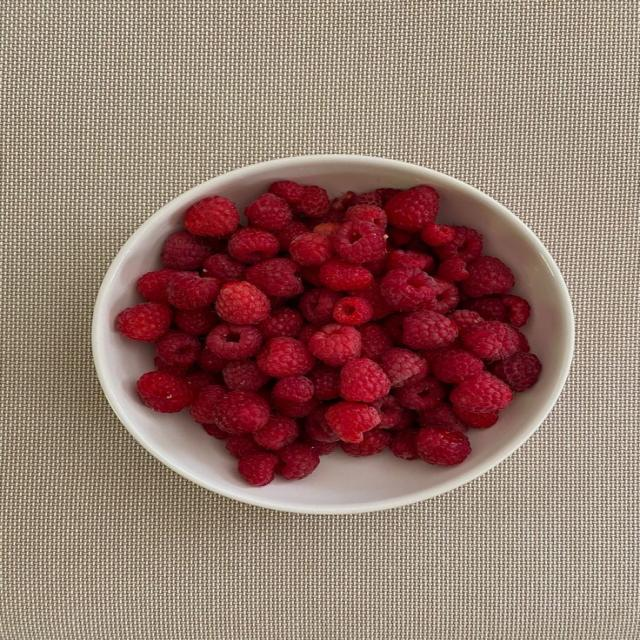raspberry: (207, 391, 269, 433), (450, 372, 513, 412), (380, 269, 439, 311), (385, 186, 438, 231), (257, 337, 314, 378), (332, 220, 386, 263), (216, 282, 270, 324), (461, 321, 519, 360), (247, 258, 303, 298), (308, 324, 361, 366), (115, 303, 172, 342), (138, 372, 193, 412), (185, 196, 239, 236), (326, 402, 380, 442), (340, 359, 390, 402), (403, 310, 458, 349), (462, 256, 514, 297), (416, 427, 471, 465), (206, 323, 262, 360), (493, 352, 541, 392), (161, 232, 211, 270), (168, 272, 219, 309), (228, 228, 279, 264), (381, 348, 427, 387), (156, 331, 201, 369), (394, 377, 444, 411), (320, 259, 373, 291), (432, 350, 483, 383), (245, 194, 291, 230), (435, 227, 482, 261), (254, 415, 299, 450), (278, 443, 319, 480), (300, 289, 342, 325), (289, 232, 333, 266), (354, 282, 393, 319), (223, 361, 270, 391), (340, 429, 391, 456), (191, 385, 226, 424), (259, 308, 303, 339), (419, 402, 466, 431), (238, 453, 278, 486), (137, 269, 174, 304), (359, 324, 393, 362), (203, 254, 246, 283), (174, 307, 218, 335), (305, 406, 339, 442), (427, 278, 459, 313), (308, 363, 339, 399), (420, 339, 461, 366), (334, 297, 373, 325), (272, 396, 319, 418), (465, 296, 506, 321), (269, 181, 304, 210), (387, 250, 433, 272), (273, 376, 313, 401), (454, 406, 499, 428), (346, 204, 387, 228), (378, 396, 407, 429), (275, 222, 308, 251), (226, 434, 264, 459), (389, 428, 419, 459), (300, 186, 330, 217), (502, 295, 530, 327), (301, 434, 339, 456), (421, 222, 455, 246), (448, 310, 482, 333), (154, 356, 191, 377), (437, 257, 468, 282), (185, 371, 218, 394), (198, 349, 227, 373), (383, 314, 404, 345), (307, 207, 343, 225), (362, 254, 386, 277), (387, 226, 413, 246), (297, 324, 321, 345), (330, 192, 355, 212), (404, 234, 430, 253), (354, 190, 383, 207), (375, 188, 401, 206), (300, 267, 322, 287), (201, 424, 228, 439), (313, 222, 340, 236), (514, 329, 530, 352)
